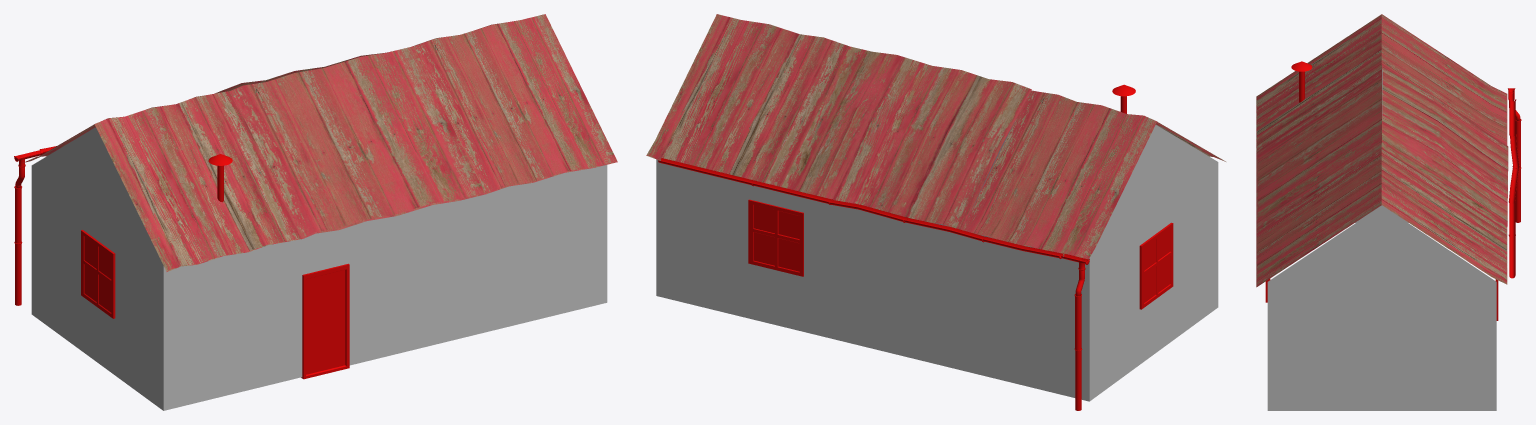
The model's file is House_01_Lod0.fbx.
3 renders of one model, left to right at view 1: azimuth 30°, elevation 25°; view 2: azimuth 150°, elevation 25°; view 3: azimuth 270°, elevation 25°, orthographic. The views are drawn at different scales.
Parts seen in each view (by area): view 1: House_01_Lod0; view 2: House_01_Lod0; view 3: House_01_Lod0.
Part boxes in pixels (bbox=[...]): House_01_Lod0: bbox=[14, 14, 617, 410]; House_01_Lod0: bbox=[646, 14, 1225, 410]; House_01_Lod0: bbox=[1256, 14, 1521, 410].
Size of the model in its own units: 832 by 430 by 485.
